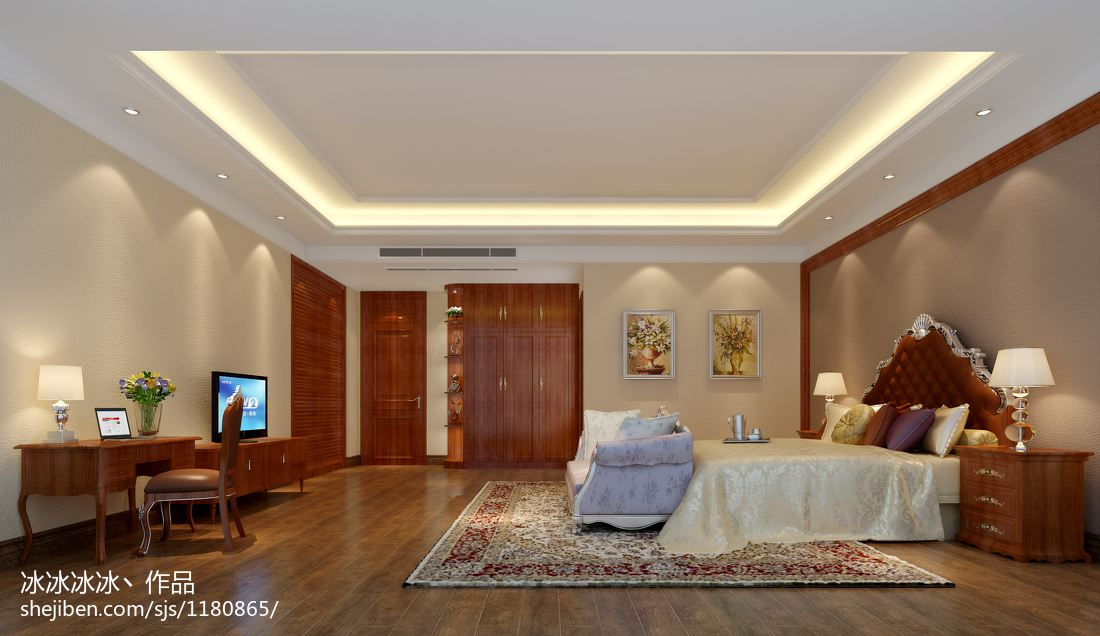床: (638, 434, 983, 549)
枕头: (836, 409, 982, 463)
灯: (991, 349, 1059, 463), (32, 369, 82, 447), (815, 377, 859, 444), (115, 106, 140, 123), (975, 108, 1001, 123), (881, 168, 901, 186), (213, 174, 233, 188), (819, 213, 838, 227), (271, 217, 289, 229)
